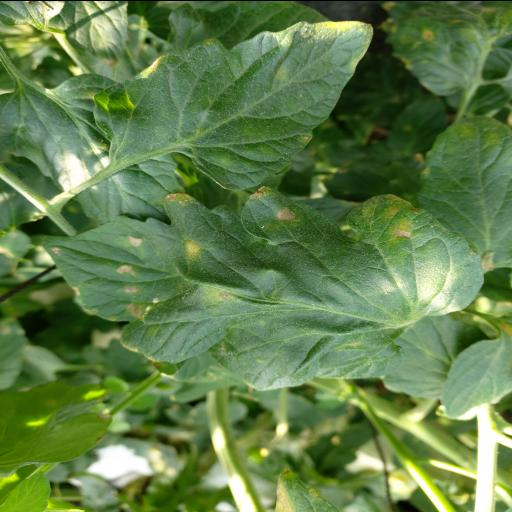disease_tomato: (44, 184, 484, 390), (92, 18, 372, 188)
